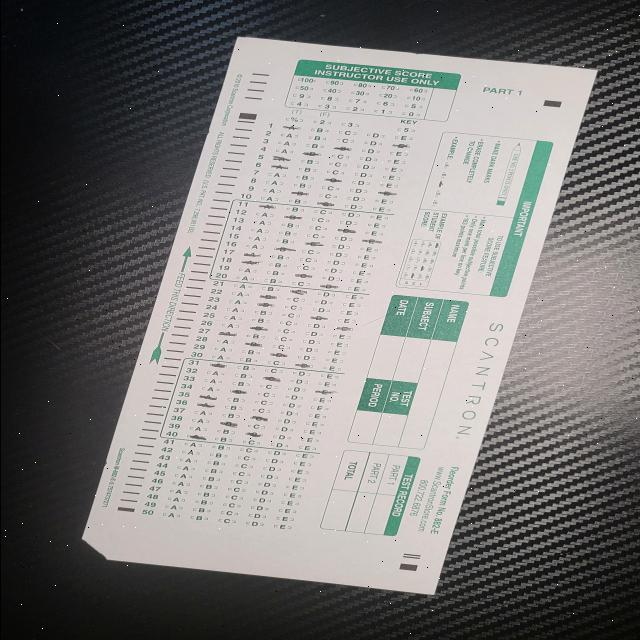scantron: (80, 36, 597, 596)
